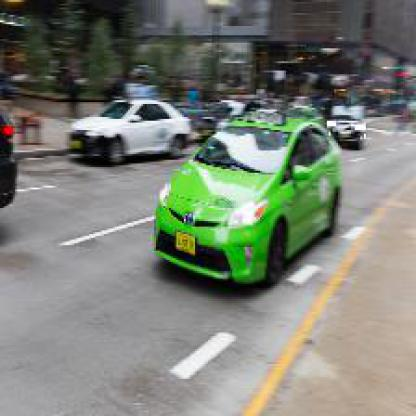not_emergency: (145, 119, 355, 295), (58, 98, 193, 160)
